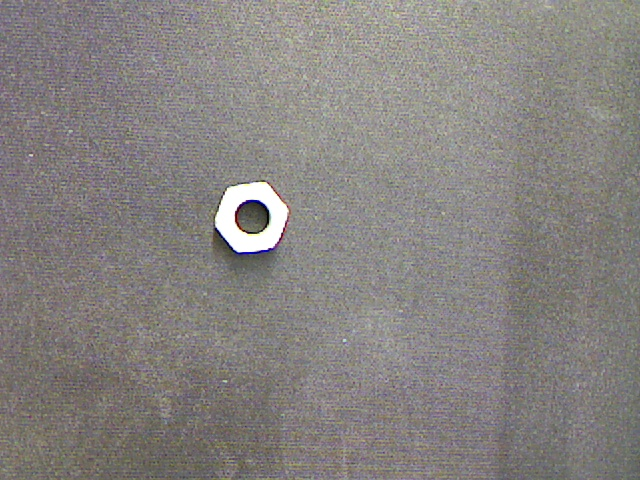Nut: (215, 181, 290, 254)
